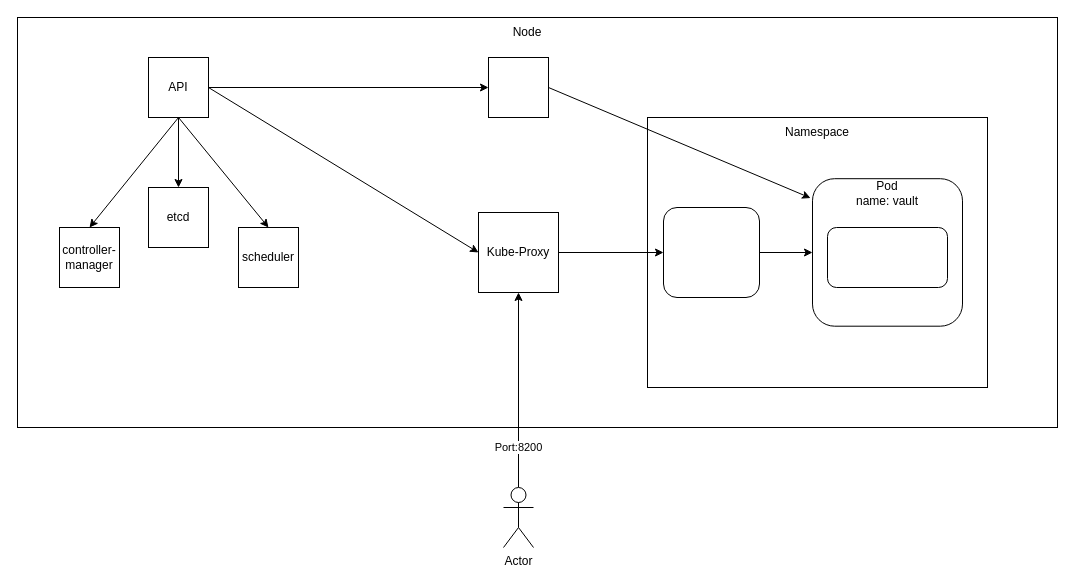
The diagram is 1075 pixels wide and 586 high, and some of its shapes have lost their labels. Each missing label, with the centre of its shape:
Container: pixel 887 257
kubelet: pixel 518 87
Service name: vault Type: NodePort: pixel 711 252
